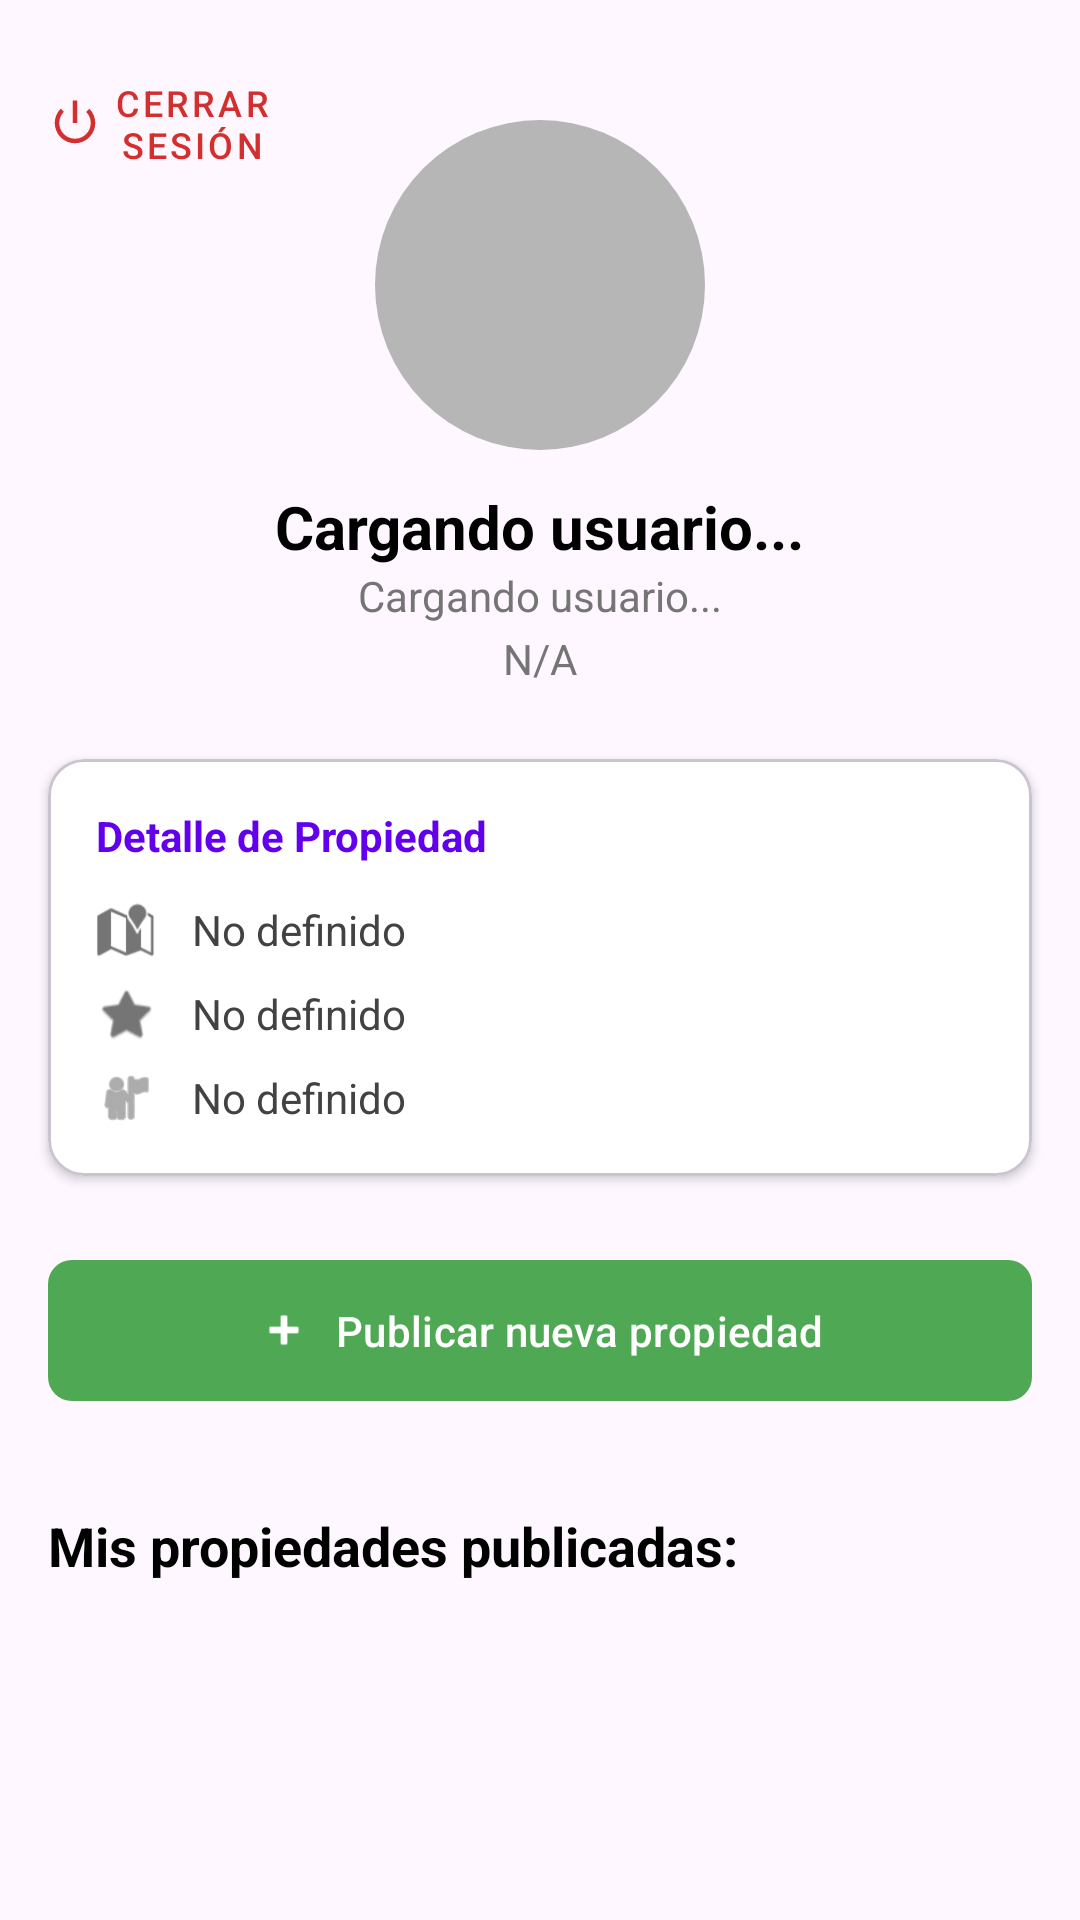

Icons on this 1080w x 1920h Android screen, each with its box as detection(x1, y1, x2, y2):
Ubicación: detection(97, 904, 154, 956)
